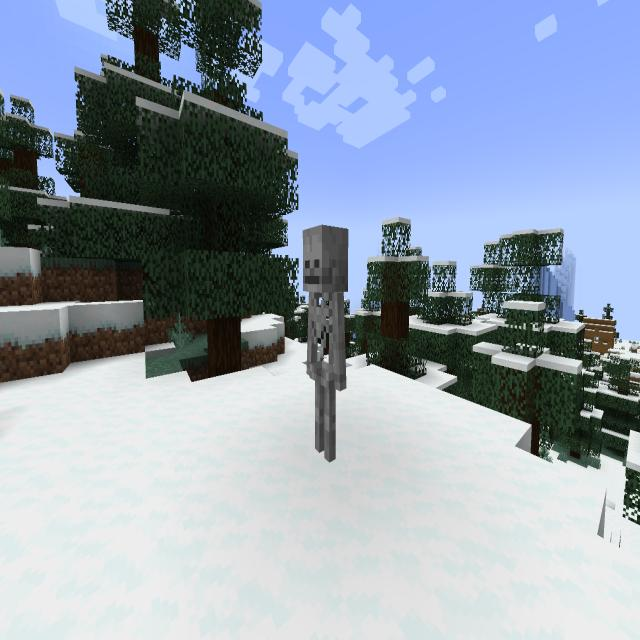Skeleton: (292, 215, 357, 472)
